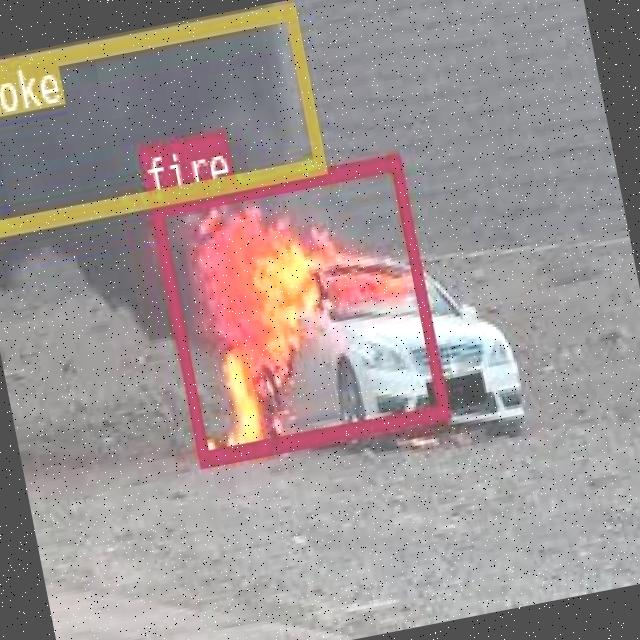fire: (146, 152, 448, 466)
smoke: (0, 0, 323, 236)
